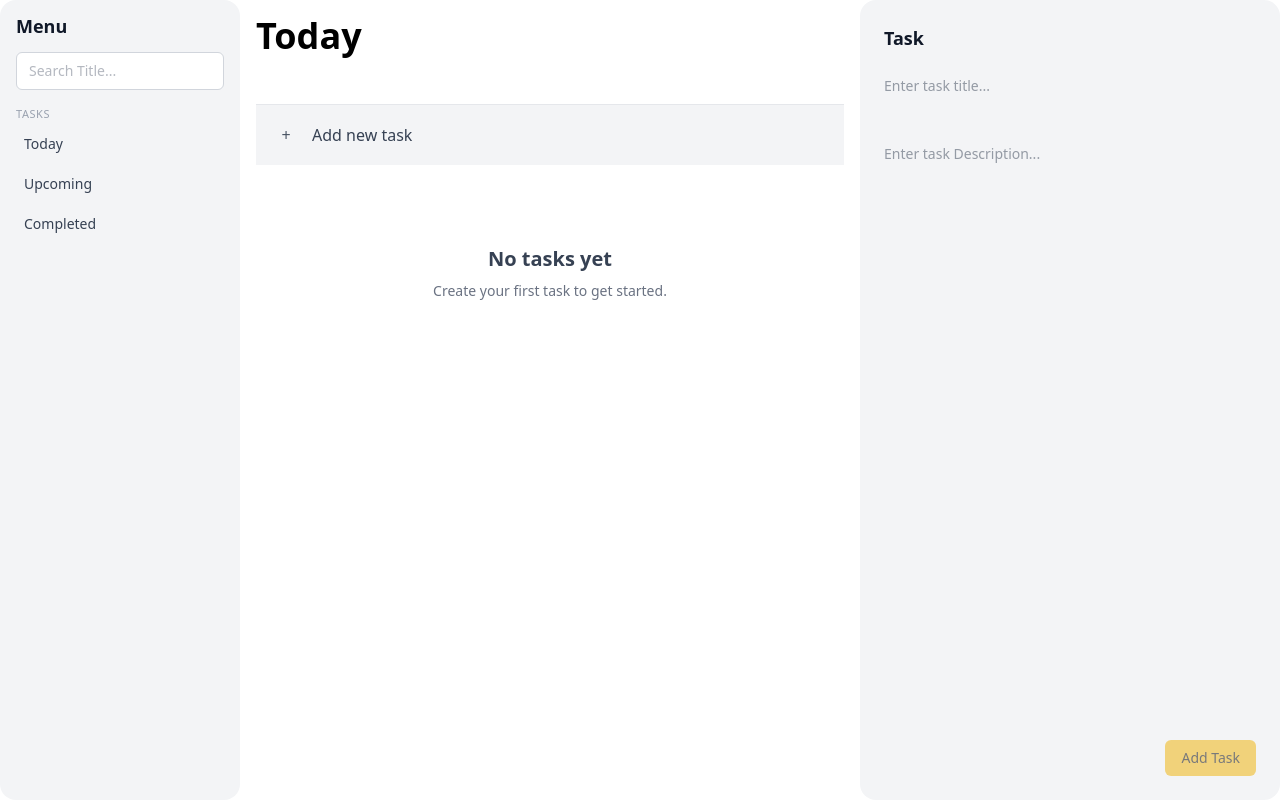
it: User interaction › user can change views from sidebar › use can change views
Expected: the heading "Today" is shown, [256,11,362,60]
Click the button "Upcoming". click: (120, 184)
box: [12,166,228,202]
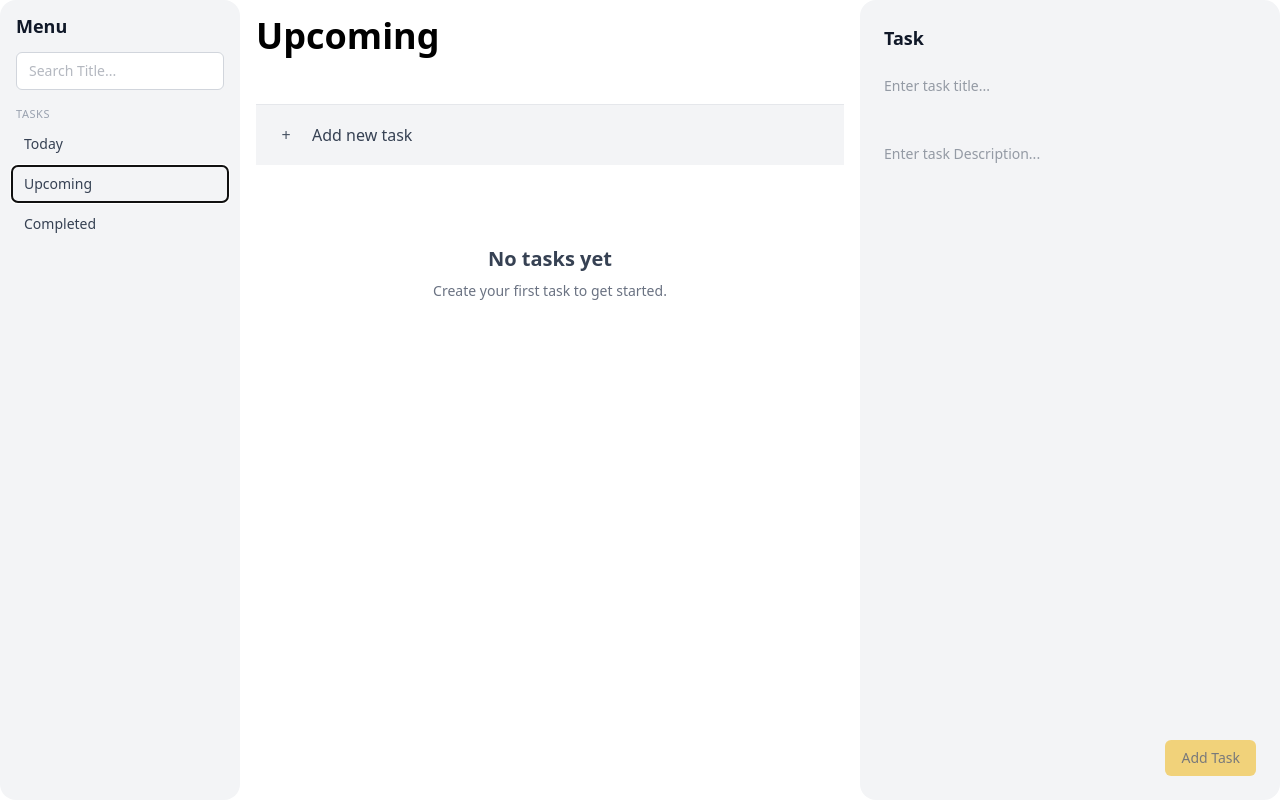
Expected: the heading "Upcoming" is shown, [256,11,440,60]
Click the button "Completed". click: (120, 224)
box: [12,206,228,242]
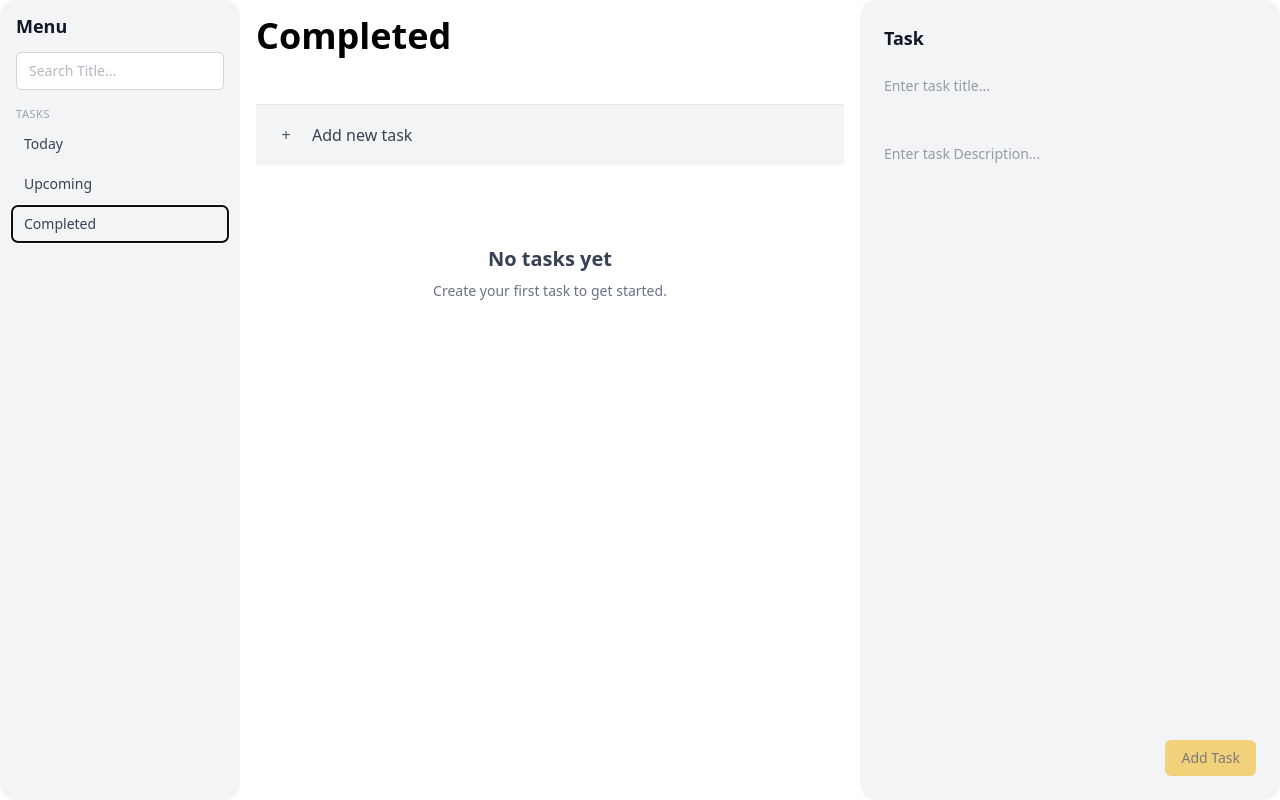
Expected: the heading "Completed" is shown, [256,11,451,60]
